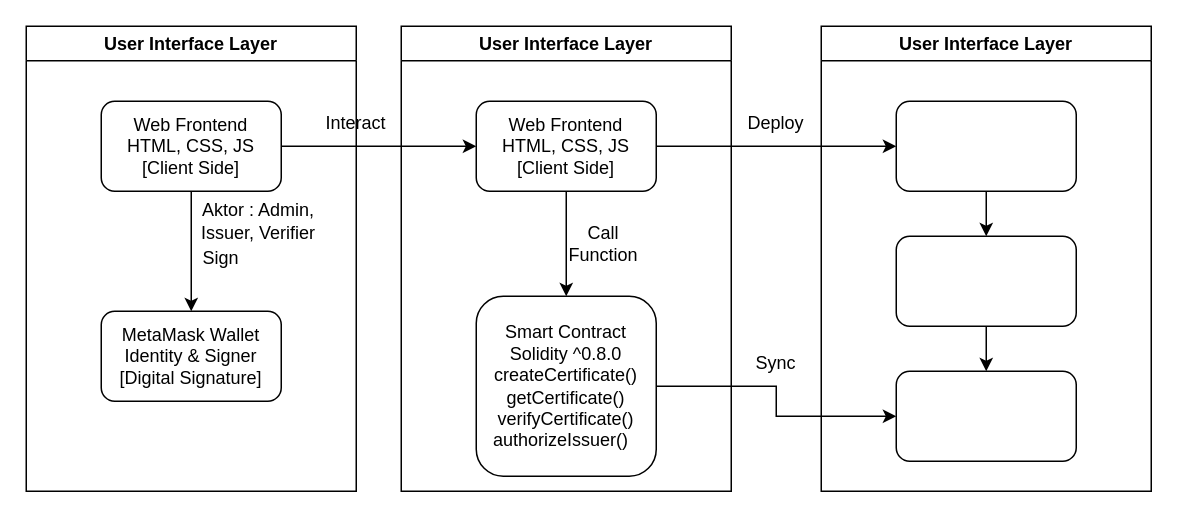
Some shapes in this 1178 by 518 pixel diagram are drawn without their labels. The centre of each missing label's shape, as x and y in pixels:
"Ethereum Sepolia Public Testnet [Network Layer]" goes at [985,145].
"Etherscan Sepolia" goes at [985,415].
"Immutable Ledger Certificate Records [permanence]" goes at [985,280].
